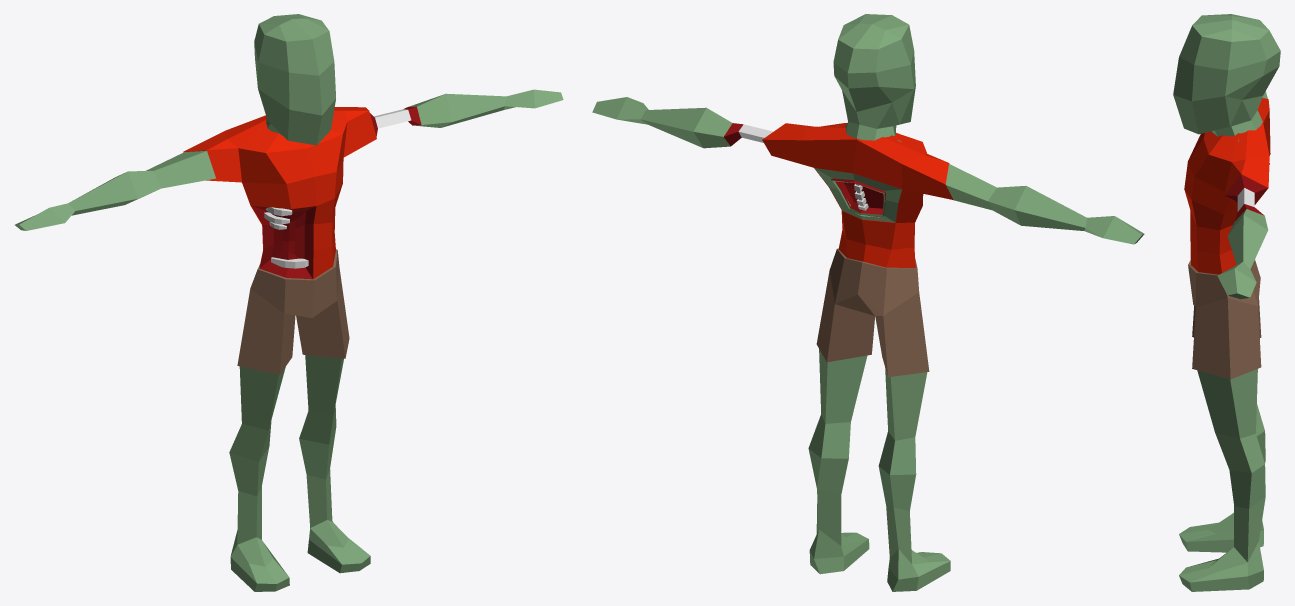
The model's file is Baby Zombie.fbx.
3 renders of one model, left to right at view 1: azimuth 30°, elevation 25°; view 2: azimuth 150°, elevation 25°; view 3: azimuth 270°, elevation 25°, orthographic.
Parts seen in each view (by area): view 1: BASE_Low Poly Man; view 2: BASE_Low Poly Man; view 3: BASE_Low Poly Man.
Part boxes in pixels (x1,y1,x2,y2): BASE_Low Poly Man: (15,14,563,591); BASE_Low Poly Man: (592,14,1144,591); BASE_Low Poly Man: (1173,14,1280,591).
Size of the model in its own units: 217 by 208 by 37.32.
